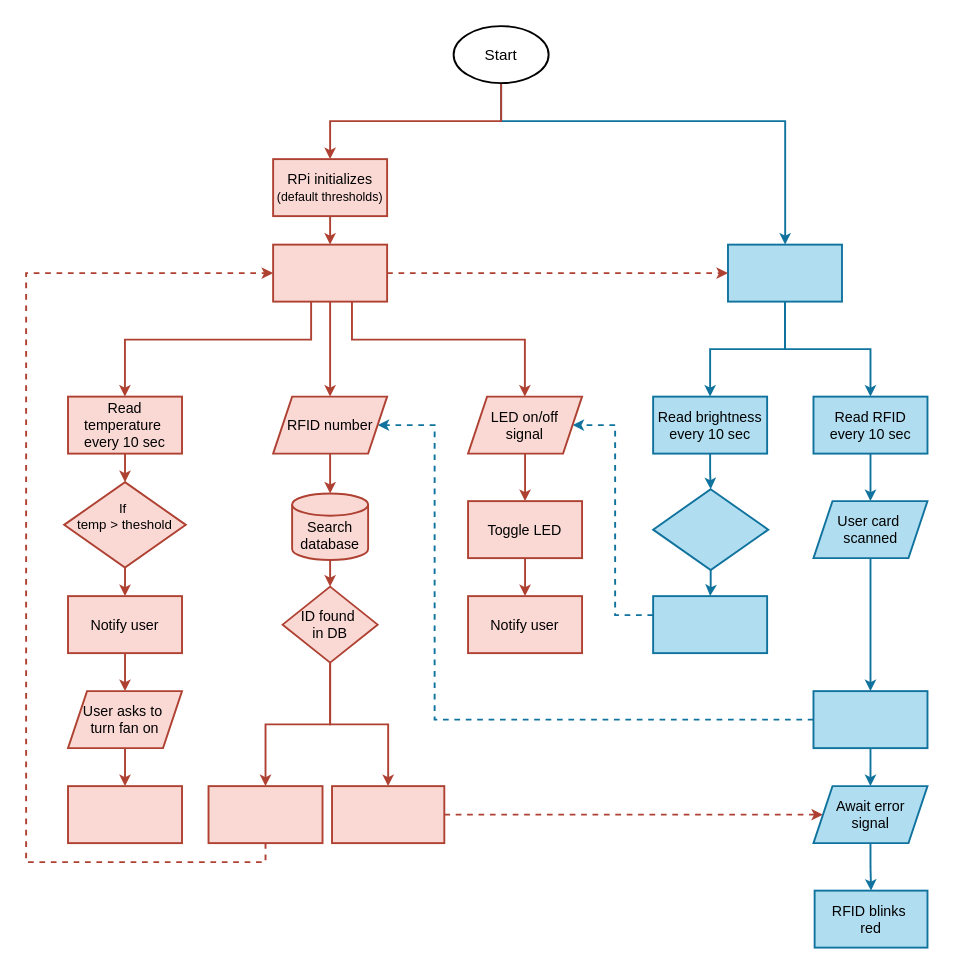
Some shapes in this 954 by 973 pixel diagram are drawn without their labels. Each missing label, with the centre of its shape:
"ESP32 initializes" goes at (784,272).
"If light < threshold" goes at (710,529).
"Post threasholds over MQTT" goes at (330,272).
"Send error signal" goes at (388,814).
"Send LED toggle signal" goes at (710,624).
"Share ID to with RPi" goes at (870,719).
"Turn fan on" goes at (124,814).
"Update thresholds" goes at (265,814).
